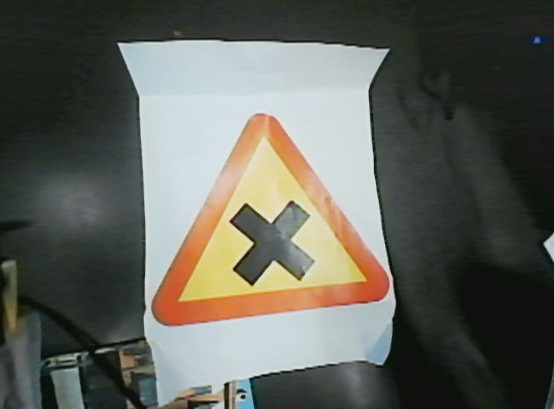junction: (133, 106, 423, 362)
